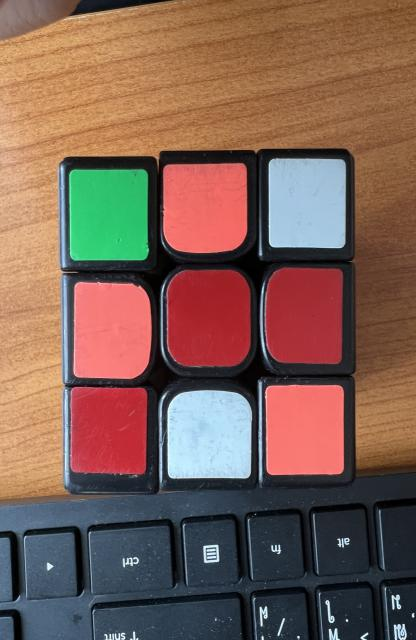Green: (68, 169, 148, 261)
Orange: (164, 162, 248, 254), (74, 282, 152, 379), (265, 385, 344, 475)
Red: (167, 270, 251, 366), (264, 268, 343, 364), (70, 388, 147, 475)
White: (167, 390, 252, 479), (269, 158, 347, 249)
